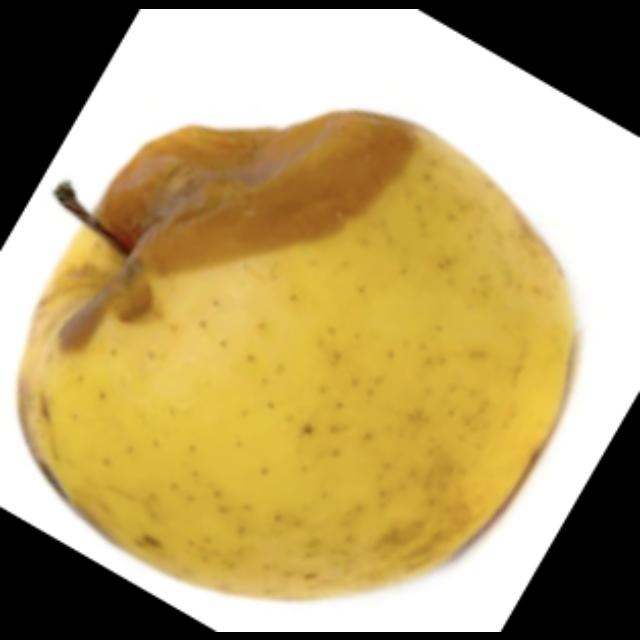Apel Tidak Segar: (9, 105, 581, 607)
